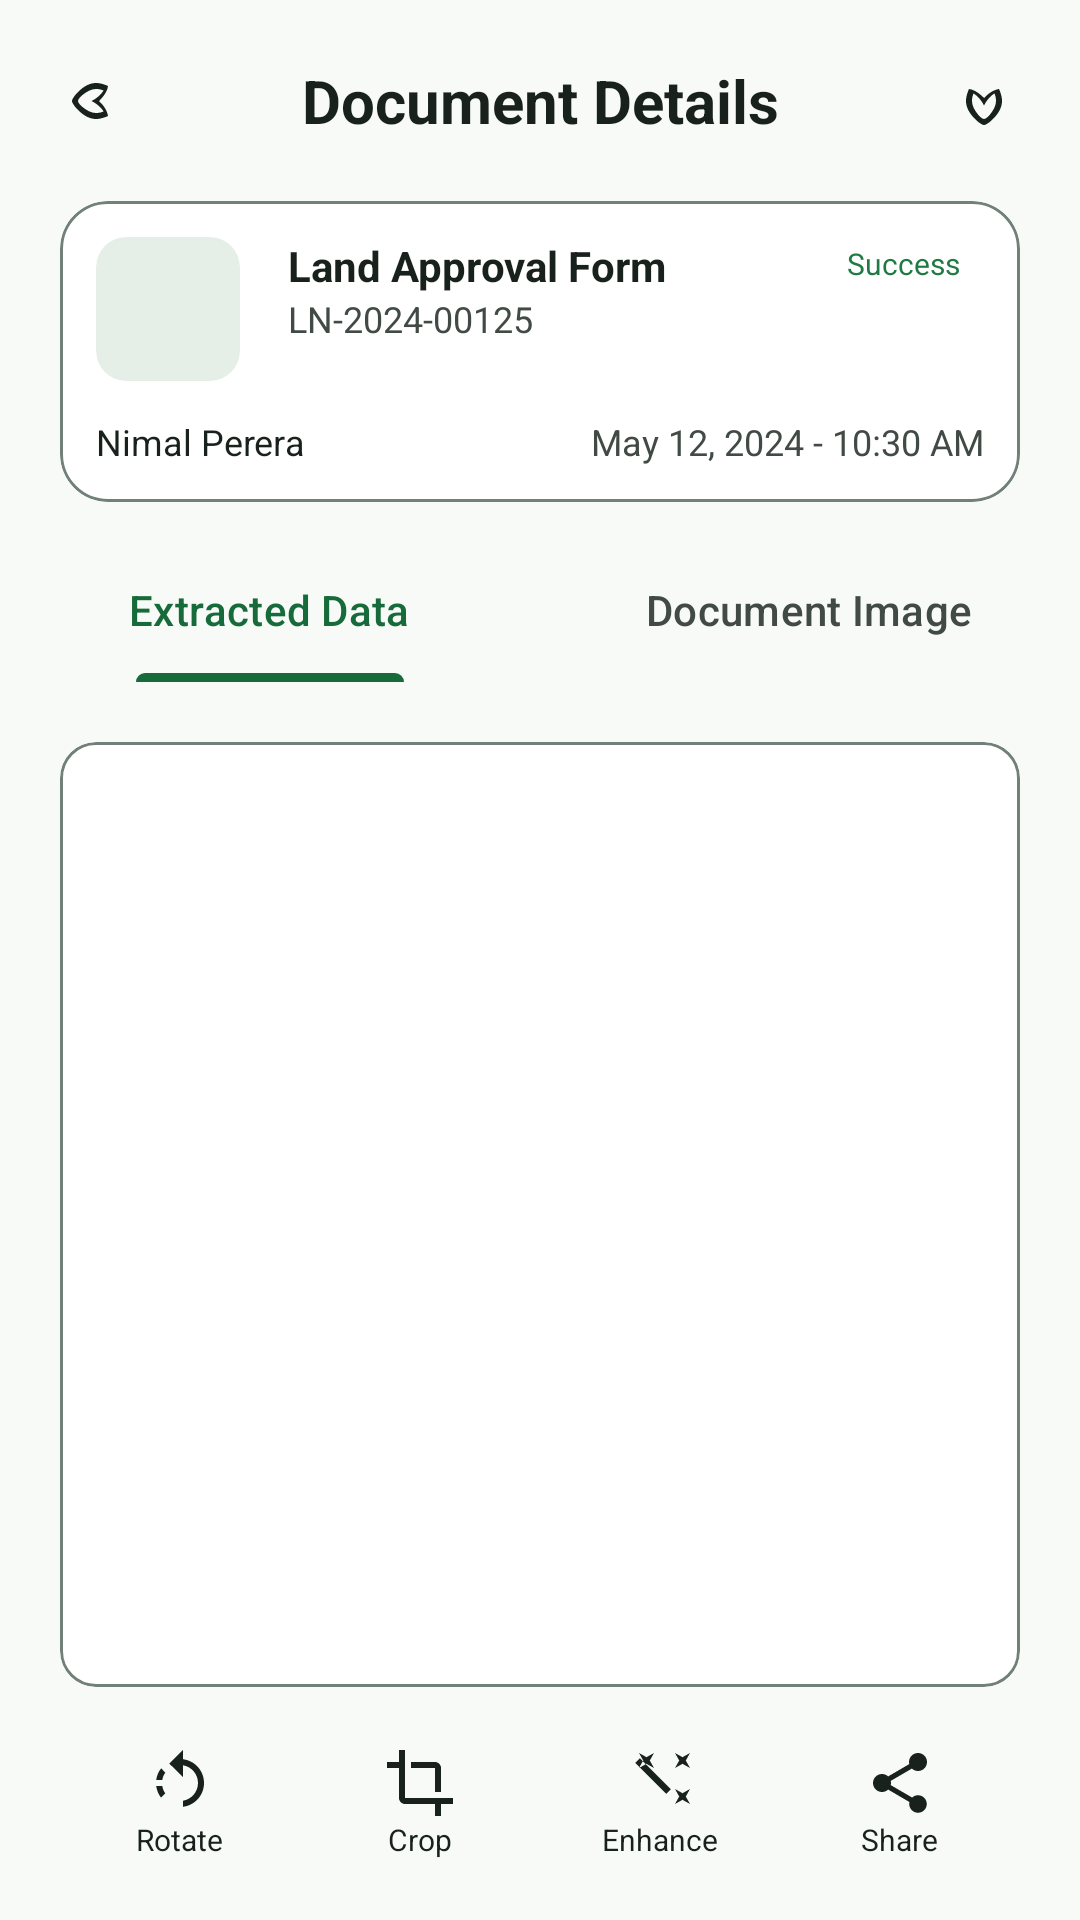

Icon click points for this 1080px x 1920px phone screenshot, format [x,y]:
magic wand: [662,1778]
